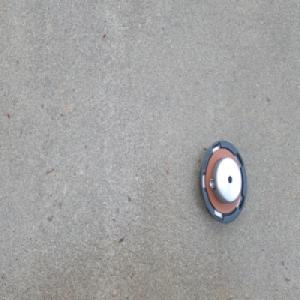FuelCap: (199, 137, 248, 223)
